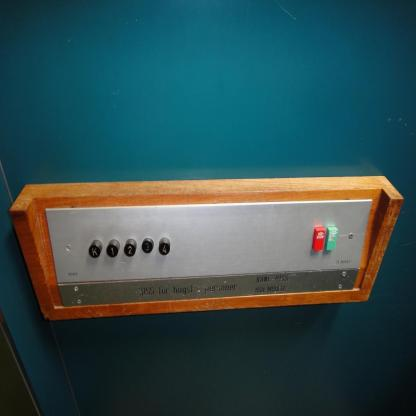1: (105, 237, 120, 257)
2: (124, 238, 138, 256)
3: (141, 236, 154, 254)
4: (157, 235, 171, 256)
K: (87, 239, 103, 259)
text: (311, 224, 325, 252), (324, 226, 338, 250)
